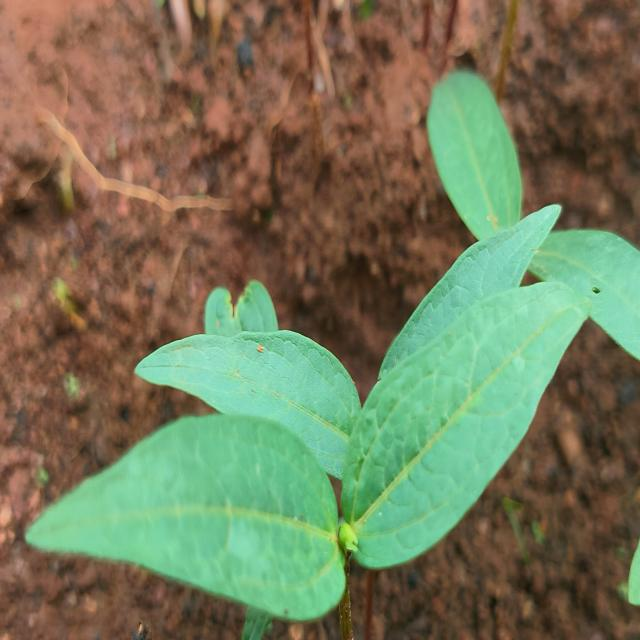Black gram_healthy: (24, 410, 351, 620), (357, 200, 567, 414), (133, 330, 385, 484), (424, 66, 523, 296)
